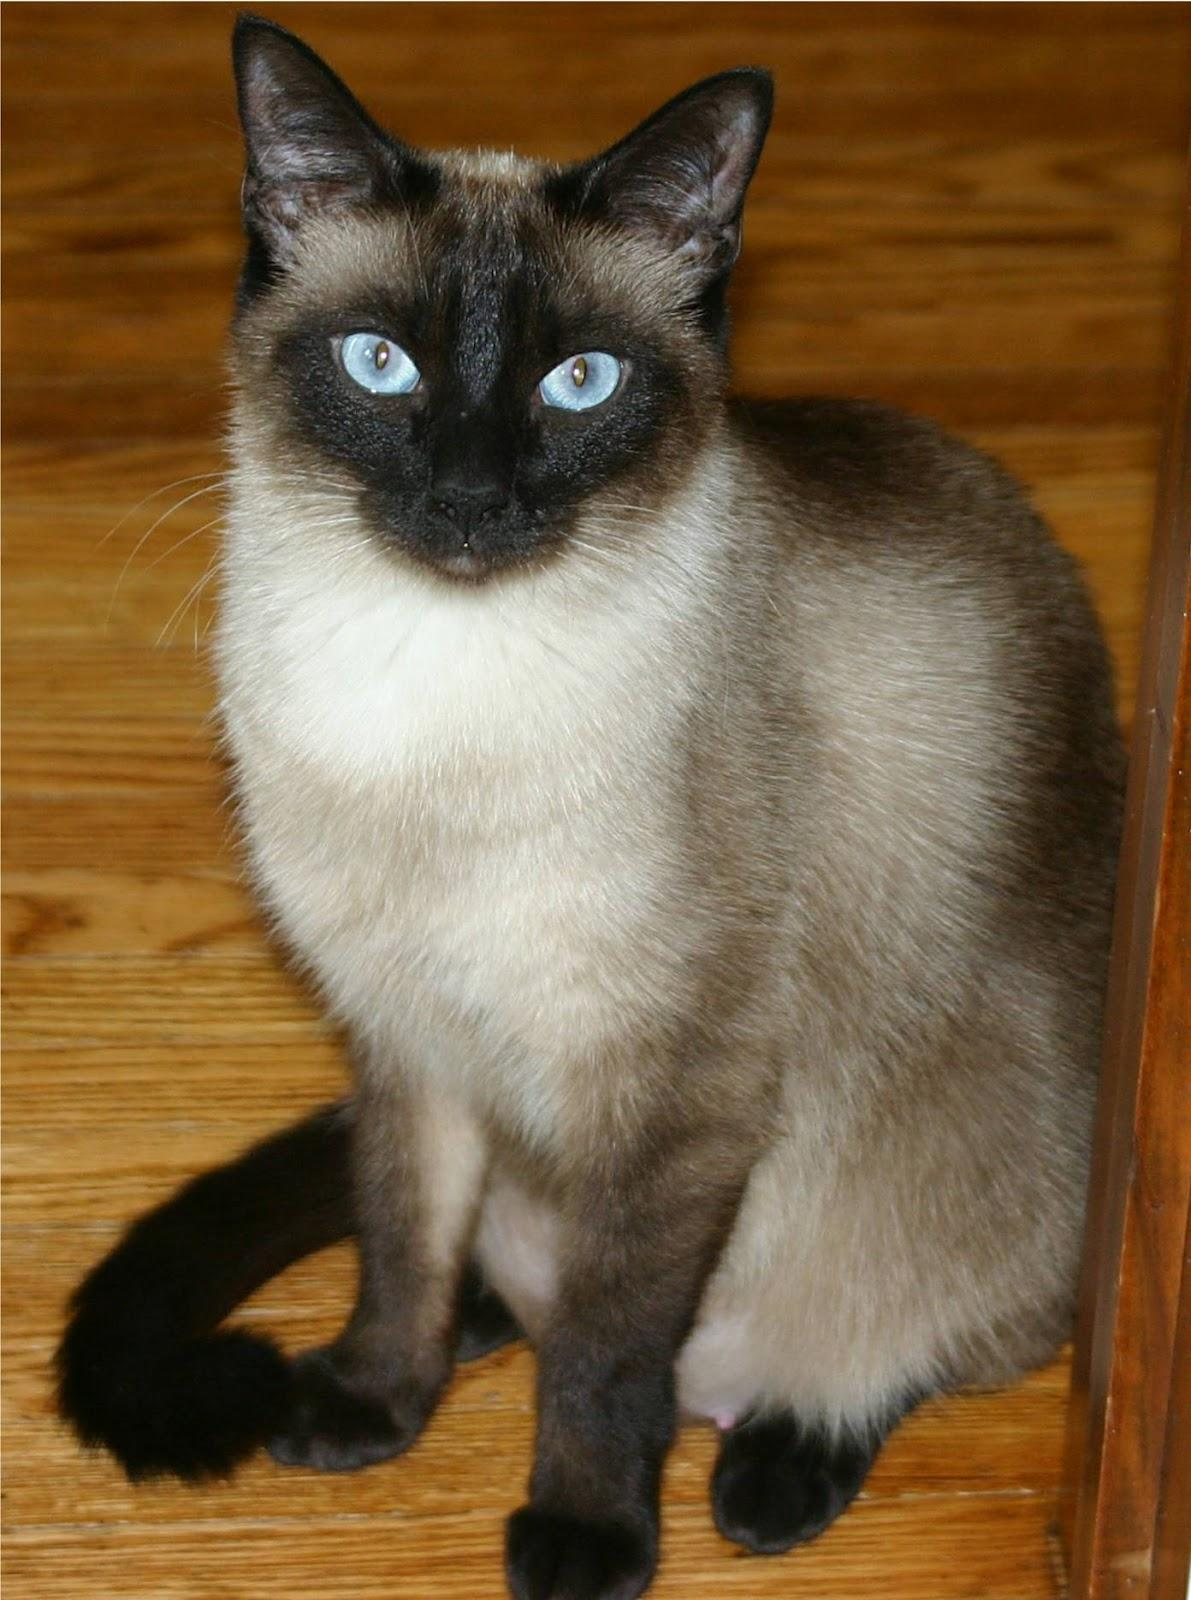siamese: (204, 16, 774, 605)
